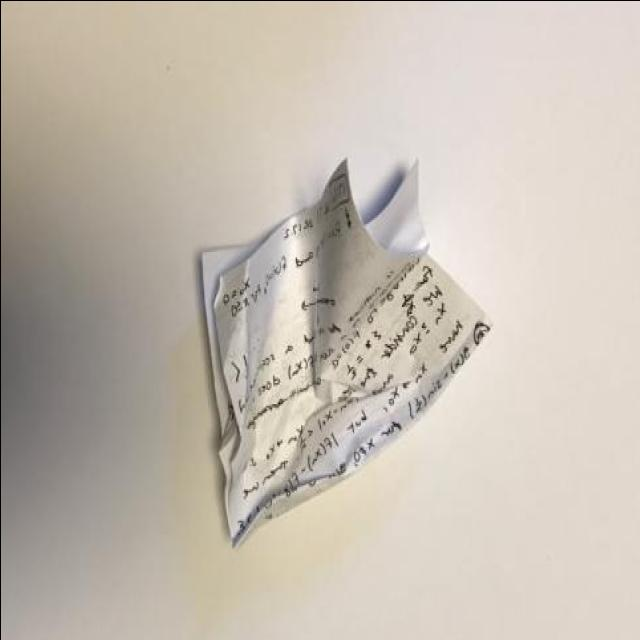kertas: (200, 153, 496, 546)
